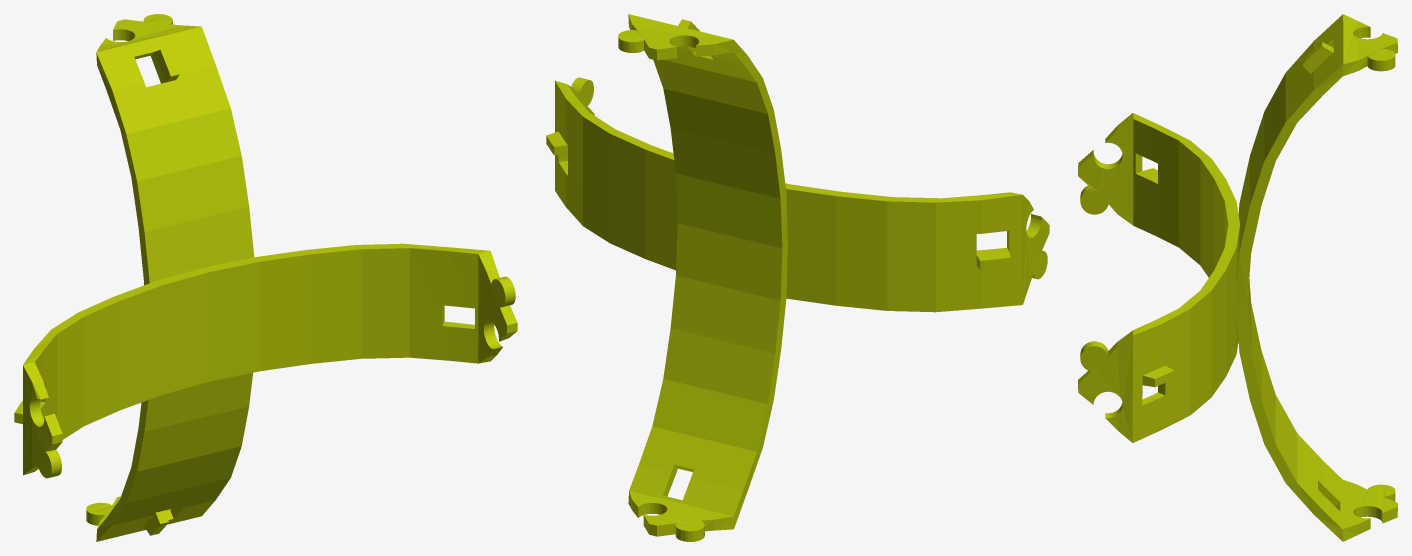
Rendered from DNA3.obj.
3 views of the same model, side by side, from view 1: azimuth 30°, elevation 25°; view 2: azimuth 150°, elevation 25°; view 3: azimuth 270°, elevation 25° (orthographic). The views are drawn at different scales.
Parts seen in each view (by area): view 1: Cylinder.001_Cylinder.019; view 2: Cylinder.001_Cylinder.019; view 3: Cylinder.001_Cylinder.019.
Part boxes in pixels (x1,y1,x2,y2): Cylinder.001_Cylinder.019: (14,14,517,541); Cylinder.001_Cylinder.019: (546,14,1049,541); Cylinder.001_Cylinder.019: (1078,14,1397,541).
Size of the model in its own units: 3.26 by 3.26 by 1.98.
